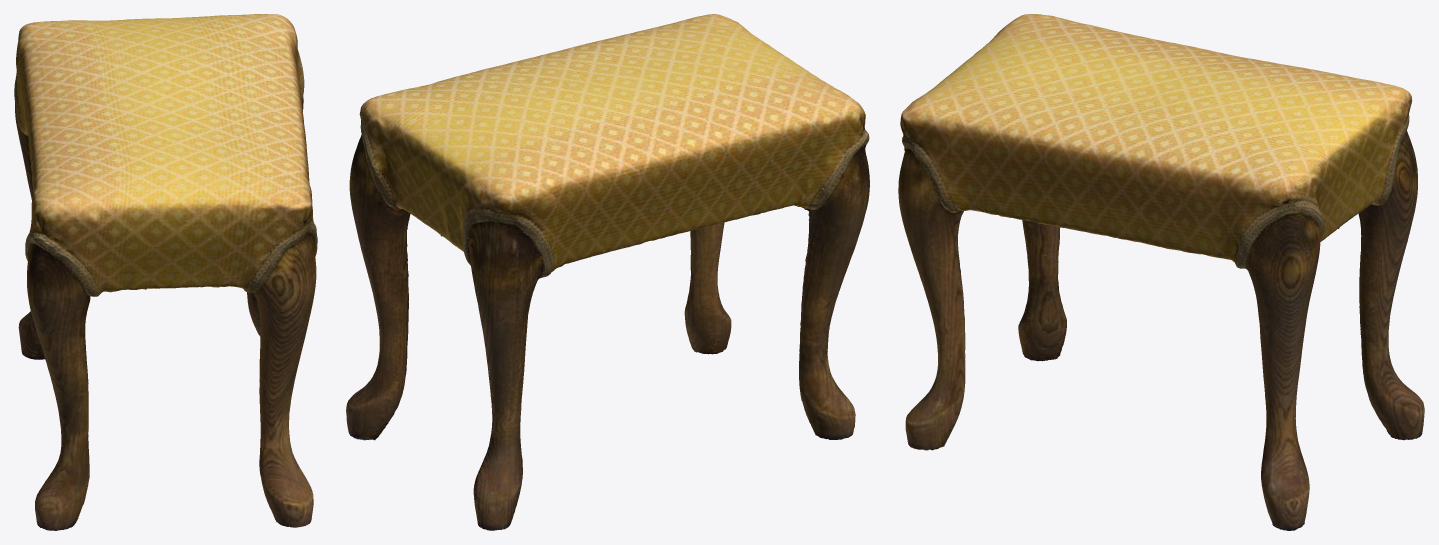
Rendered from obj_btw_stool_300dde.glb.
The picture shows the model from 3 angles, left to right: view 1: azimuth 30°, elevation 25°; view 2: azimuth 150°, elevation 25°; view 3: azimuth 270°, elevation 25°; orthographic projection.
Parts seen in each view (by area): view 1: obj_btw_stool_300dde; view 2: obj_btw_stool_300dde; view 3: obj_btw_stool_300dde.
Boxes of the visible parts, bbox=[...] form: obj_btw_stool_300dde: bbox=[14, 14, 317, 530]; obj_btw_stool_300dde: bbox=[346, 14, 869, 530]; obj_btw_stool_300dde: bbox=[898, 14, 1424, 530].
Size of the model in its own units: 0.4946 by 0.42 by 0.5641.
1 material, 1 textured.
